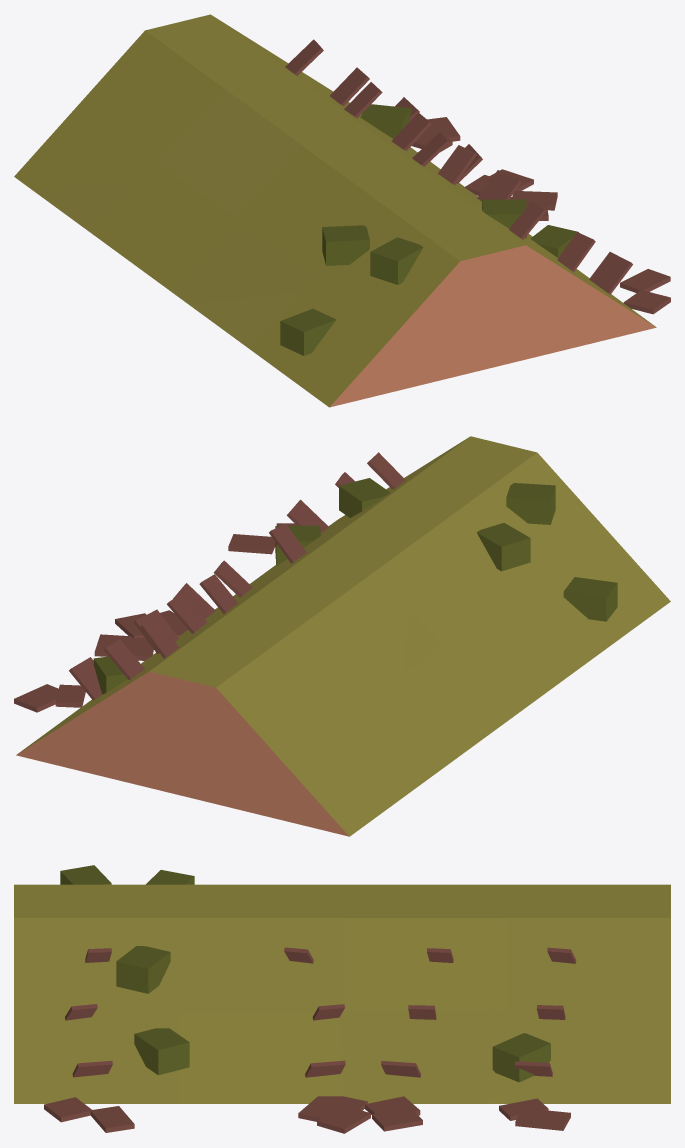
Rendered from SM_TaludDeposito_v2_Erosionado_LOD1.fbx.
3 views of the same model, one above another, from view 1: azimuth 30°, elevation 25°; view 2: azimuth 150°, elevation 25°; view 3: azimuth 270°, elevation 25° (orthographic). The views are drawn at different scales.
Parts seen in each view (by area): view 1: SM_bloques.talud_deposito_v2_LOD1; view 2: SM_bloques.talud_deposito_v2_LOD1; view 3: SM_bloques.talud_deposito_v2_LOD1.
Part boxes in pixels (bbox=[...]): SM_bloques.talud_deposito_v2_LOD1: bbox=[14, 14, 670, 407]; SM_bloques.talud_deposito_v2_LOD1: bbox=[14, 436, 670, 836]; SM_bloques.talud_deposito_v2_LOD1: bbox=[14, 865, 670, 1133].
Size of the model in its own units: 7.08 by 2.05 by 10.
